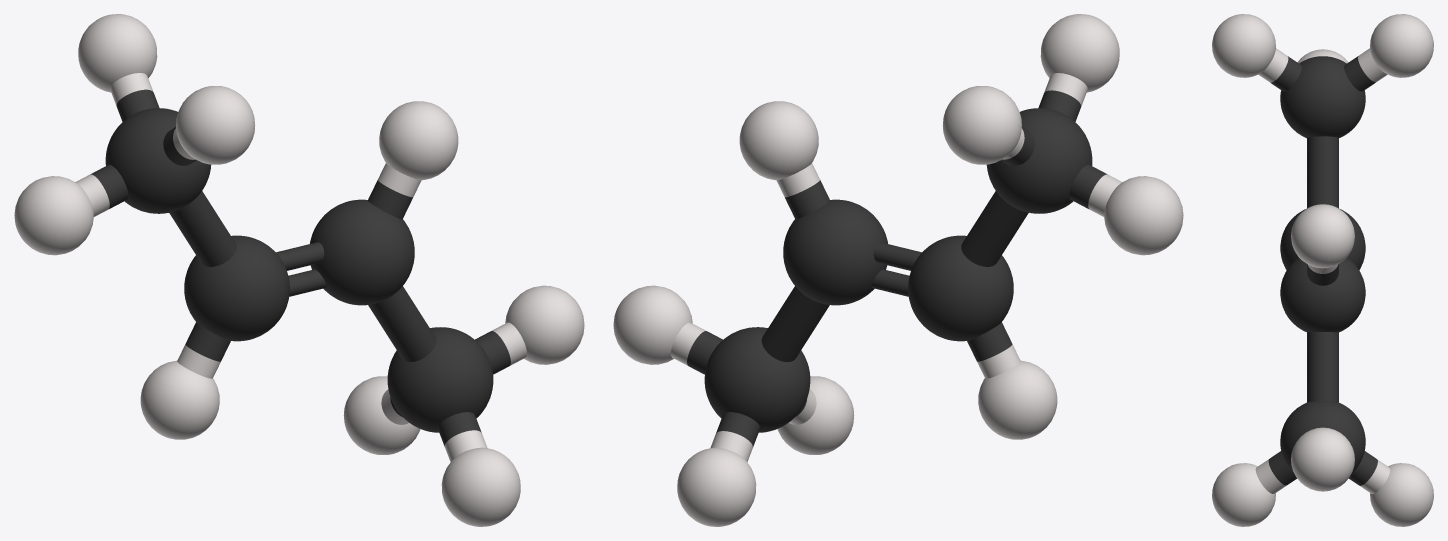
The model's file is fdx.gltf.
3 views of the same model, side by side, from view 1: azimuth 30°, elevation 25°; view 2: azimuth 150°, elevation 25°; view 3: azimuth 270°, elevation 25° (orthographic). The views are drawn at different scales.
Visible parts, largest first — view 1: 007; view 2: 007; view 3: 007.
Part boxes in pixels (x1,y1,x2,y2): 007: [14, 14, 584, 526]; 007: [613, 14, 1183, 526]; 007: [1212, 14, 1433, 526].
Size of the model in its own units: 48.79 by 41.57 by 20.77.
Materials: 2 (2 with a texture image).
